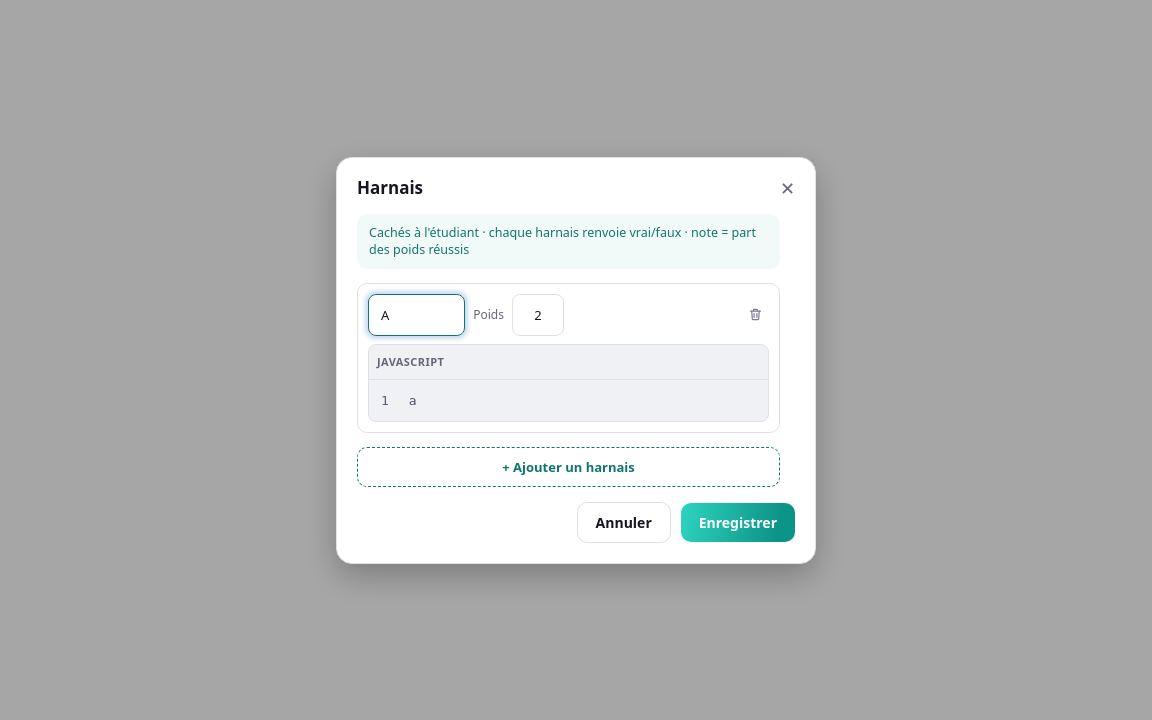
Test case: HarnessBody › WeightInput (poids) › marque le champ invalide quand vidé et bloque l'enregistrement
Clear the number field labelled "Poids": point(538, 314) x1=512 y1=294 x2=564 y2=336
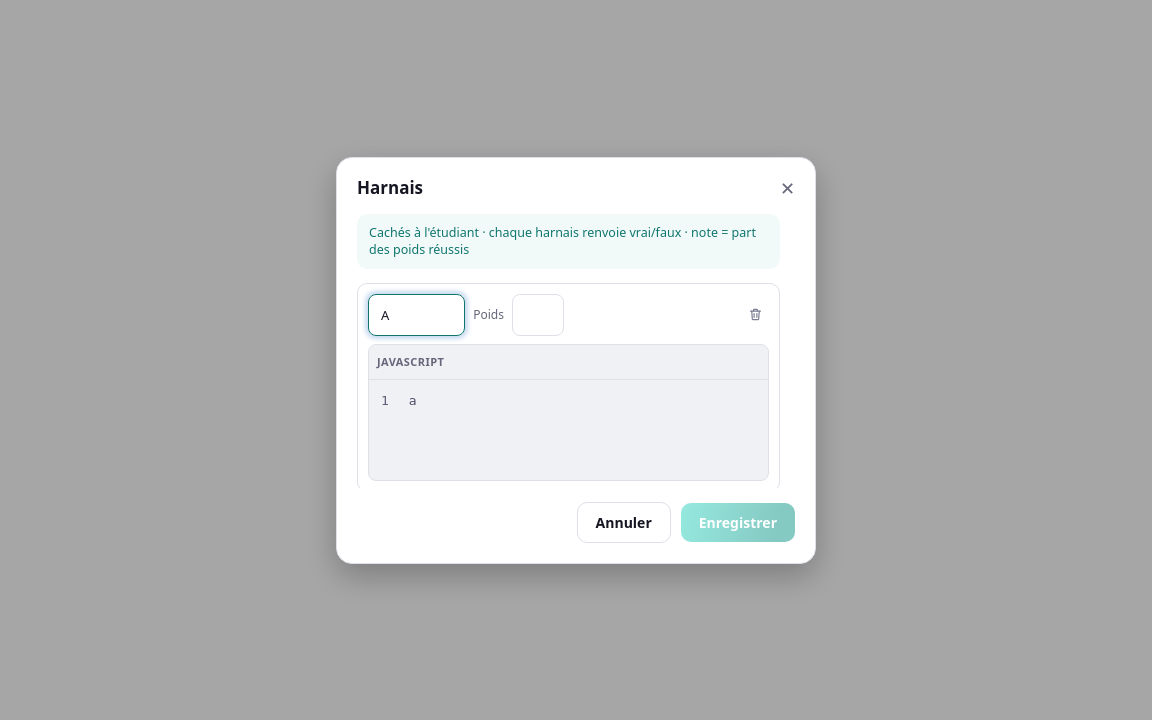
expect the button "Enregistrer" is disabled: met, box x1=681 y1=502 x2=795 y2=542
